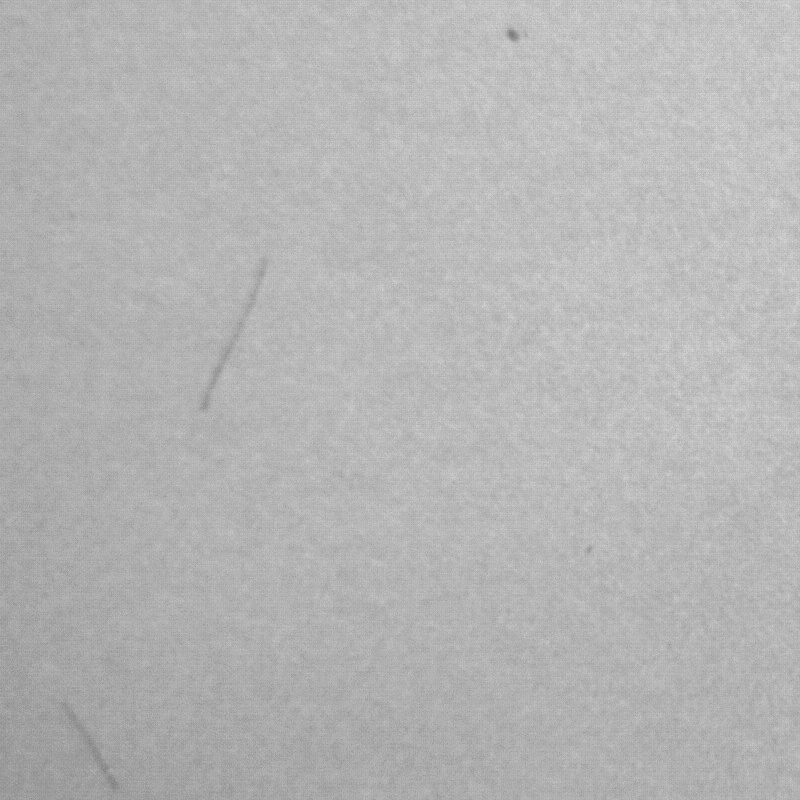defect: (201, 262, 264, 414), (64, 704, 121, 795), (498, 27, 536, 43)
